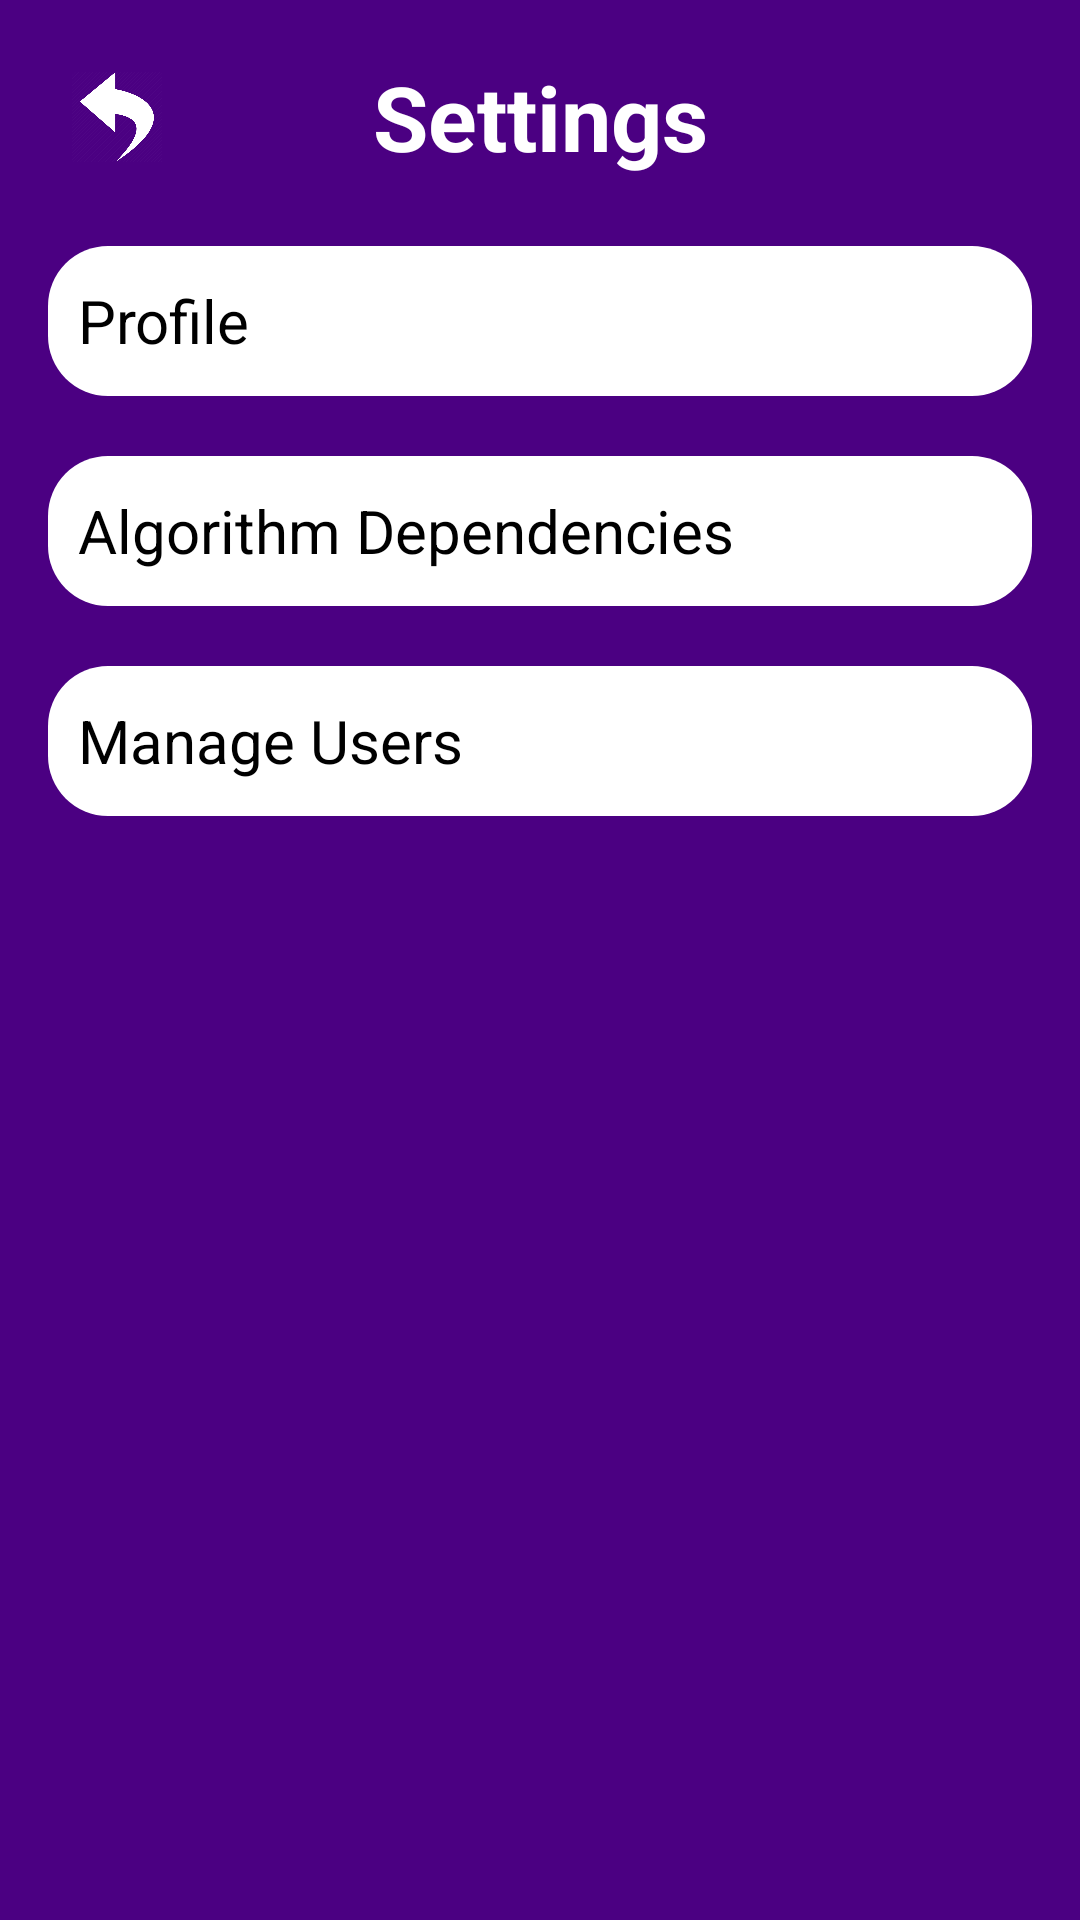

Icons on this 1080×1920 Android screen, each with its box as (x1, y1, x2, y2):
Back Button: (80, 73, 154, 161)
